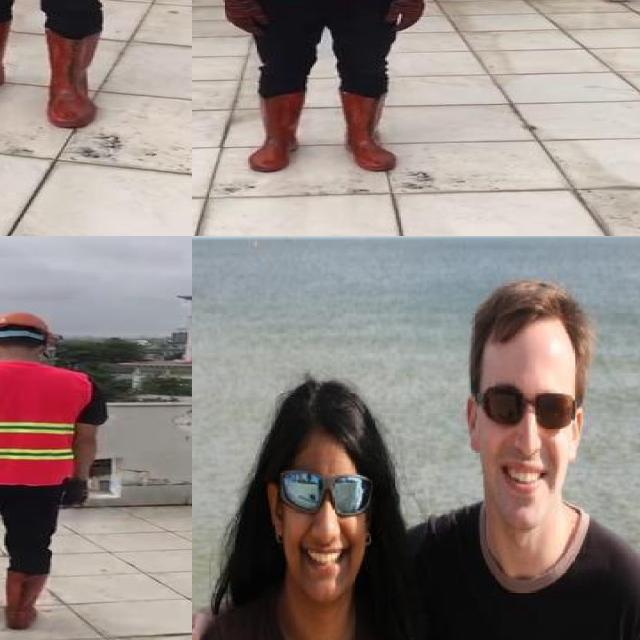boots: (43, 27, 100, 129), (339, 91, 399, 173), (250, 92, 307, 173), (4, 570, 47, 627)
face_nomask: (473, 378, 583, 512), (274, 464, 378, 592)
glasses: (476, 379, 578, 436), (276, 470, 374, 520)
hand_glove: (223, 0, 269, 36), (381, 0, 424, 34), (64, 480, 88, 509)
head_helmet: (0, 310, 55, 337)
head_nohelmet: (261, 374, 388, 454), (467, 276, 592, 352)
person: (391, 267, 640, 640), (192, 359, 430, 640), (202, 0, 430, 172), (0, 309, 106, 631), (0, 0, 167, 134)
vest: (0, 364, 87, 485)
